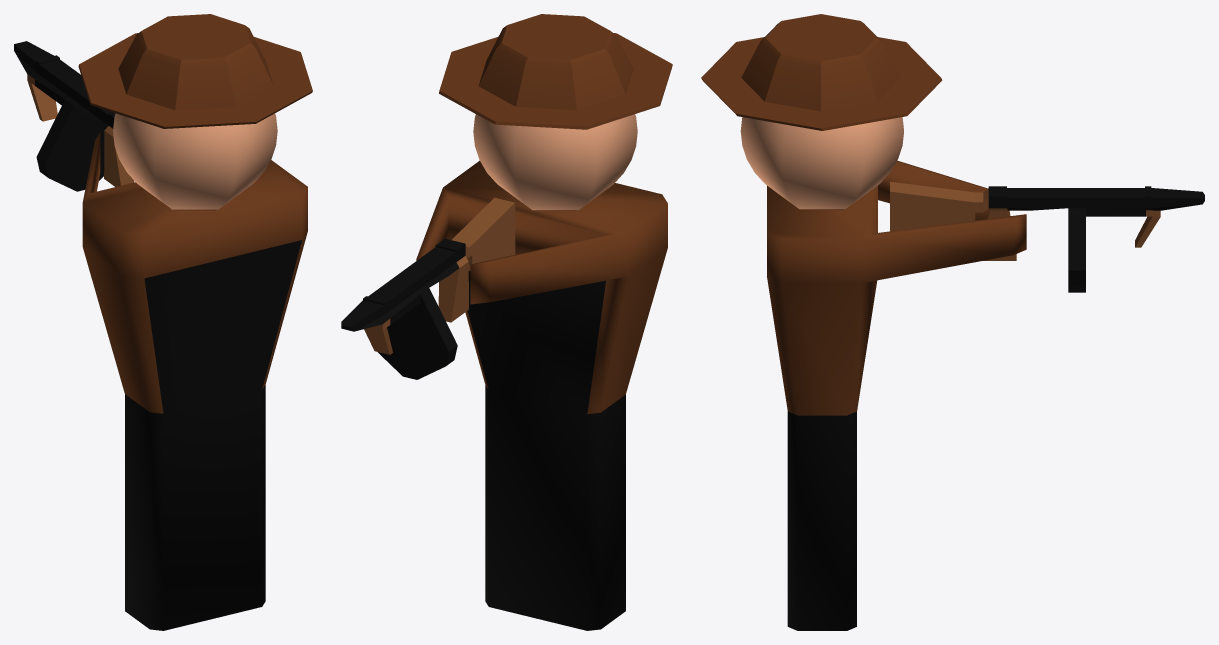
Rendered from MafyaAdamı1.fbx.
3 renders of one model, left to right at view 1: azimuth 30°, elevation 25°; view 2: azimuth 150°, elevation 25°; view 3: azimuth 270°, elevation 25°, orthographic.
Visible parts, largest first — view 1: Cube, Circle, TommyGun; view 2: Cube, Circle, TommyGun; view 3: Cube, Circle, TommyGun.
Part boxes in pixels (bbox=[...]): Cube: bbox=[82, 113, 307, 630]; Circle: bbox=[78, 14, 312, 128]; TommyGun: bbox=[14, 41, 134, 191]; Cube: bbox=[416, 114, 667, 630]; Circle: bbox=[439, 14, 672, 129]; TommyGun: bbox=[341, 197, 515, 379]; Cube: bbox=[740, 117, 1026, 630]; Circle: bbox=[701, 14, 942, 130]; TommyGun: bbox=[890, 181, 1204, 292].
Bounding box in the file's own units: 19.09 × 49.56 × 40.04.
